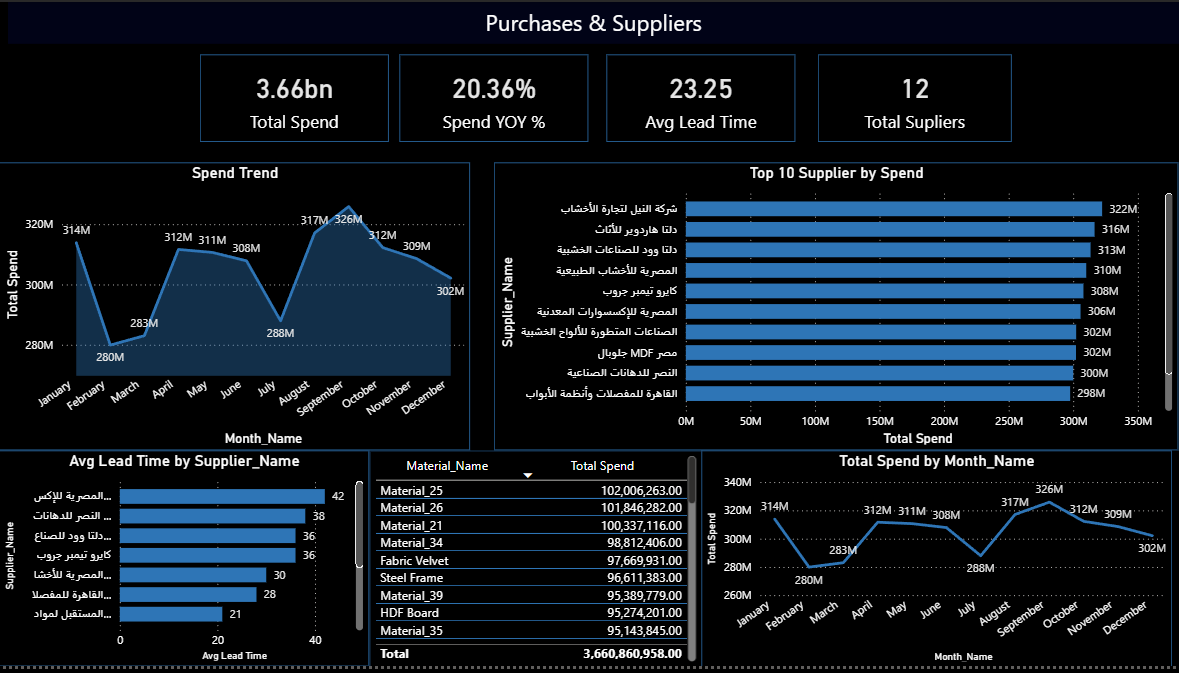

What the dashboard file says about the page in this screenshot:
{"tool":"powerbi","page":{"name":"Purchases & Suppliers","canvas":[1280,720],"ordinal":3},"visuals":[{"type":"textbox","box":[9.8,0,1270.3,45.5],"z":0},{"type":"card","fields":{"Values":["Fact_Purchases.Total Spend"]},"box":[218,56.9,204.9,94.3],"z":1},{"type":"card","fields":{"Values":["Fact_Purchases.Spend YOY %"]},"box":[434.3,56.9,204.9,94.3],"z":2},{"type":"card","fields":{"Values":["Fact_Purchases.Avg Lead Time"]},"box":[658.8,56.9,204.9,94.3],"z":3},{"type":"card","fields":{"Values":["Dim_Suppliers.Total Supliers"]},"box":[888.1,56.9,209.8,94.3],"z":4},{"type":"barChart","title":"Top 10 Supplier by Spend ","fields":{"Category":["Dim_Suppliers.Supplier_Name"],"Y":["Fact_Purchases.Total Spend"]},"box":[536.8,174,741.7,312.3],"z":5},{"type":"lineChart","fields":{"Y":["Fact_Purchases.Total Spend"],"Category":["Dim_Date.Month_Name"]},"box":[761.5,486.1,510.4,234.9],"z":6},{"type":"areaChart","title":" Spend Trend","fields":{"Category":["Dim_Date.Month_Name"],"Y":["Fact_Purchases.Total Spend"]},"box":[0,174,510.7,312.3],"z":7},{"type":"tableEx","fields":{"Values":["Dim_Materials.Material_Name","Fact_Purchases.Total Spend"]},"box":[401,486.1,360.5,234.9],"z":8},{"type":"barChart","fields":{"Y":["Fact_Purchases.Avg Lead Time"],"Category":["Dim_Suppliers.Supplier_Name"]},"box":[0,486,401,234],"z":9}]}

Visuals, with their boxes in screenshot pixels (x1, y1, x2, y2), scaled from the page's 1280x720 canvas onto the 1179x673 screenshot:
textbox: region(9, 0, 1178, 43)
card - Fact_Purchases.Total Spend: region(201, 53, 390, 141)
card - Fact_Purchases.Spend YOY %: region(400, 53, 589, 141)
card - Fact_Purchases.Avg Lead Time: region(607, 53, 796, 141)
card - Dim_Suppliers.Total Supliers: region(818, 53, 1011, 141)
"Top 10 Supplier by Spend " barChart: region(494, 163, 1178, 455)
lineChart - Fact_Purchases.Total Spend x Dim_Date.Month_Name: region(701, 454, 1172, 672)
" Spend Trend" areaChart: region(0, 163, 470, 455)
tableEx - Dim_Materials.Material_Name x Fact_Purchases.Total Spend: region(369, 454, 701, 672)
barChart - Fact_Purchases.Avg Lead Time x Dim_Suppliers.Supplier_Name: region(0, 454, 369, 672)
